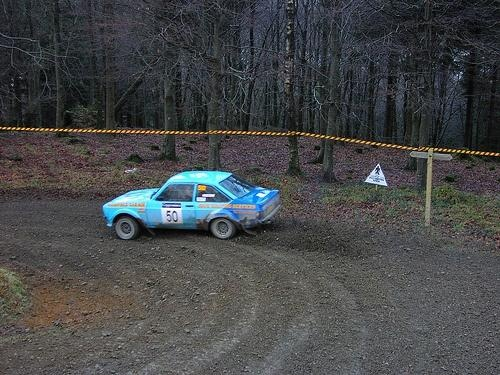car: (102, 170, 282, 241)
